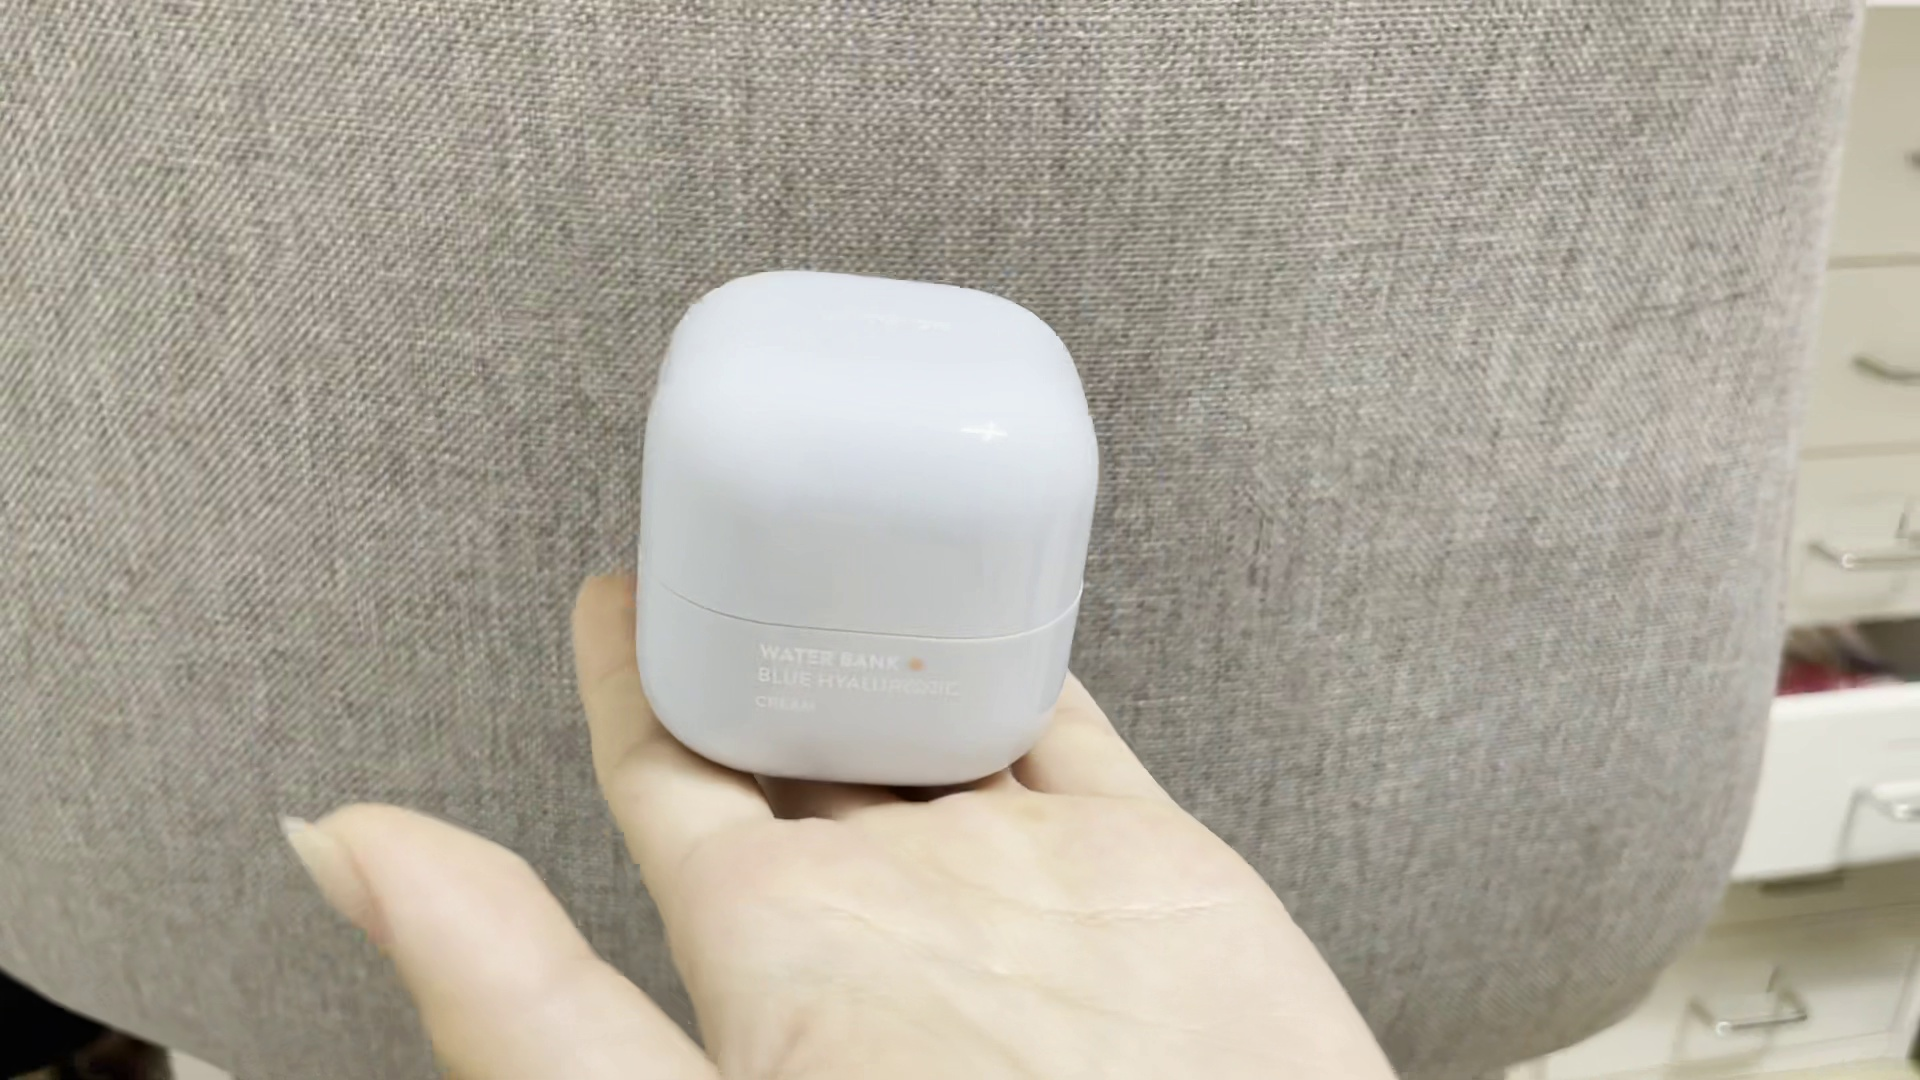cream: (644, 272, 1100, 793)
